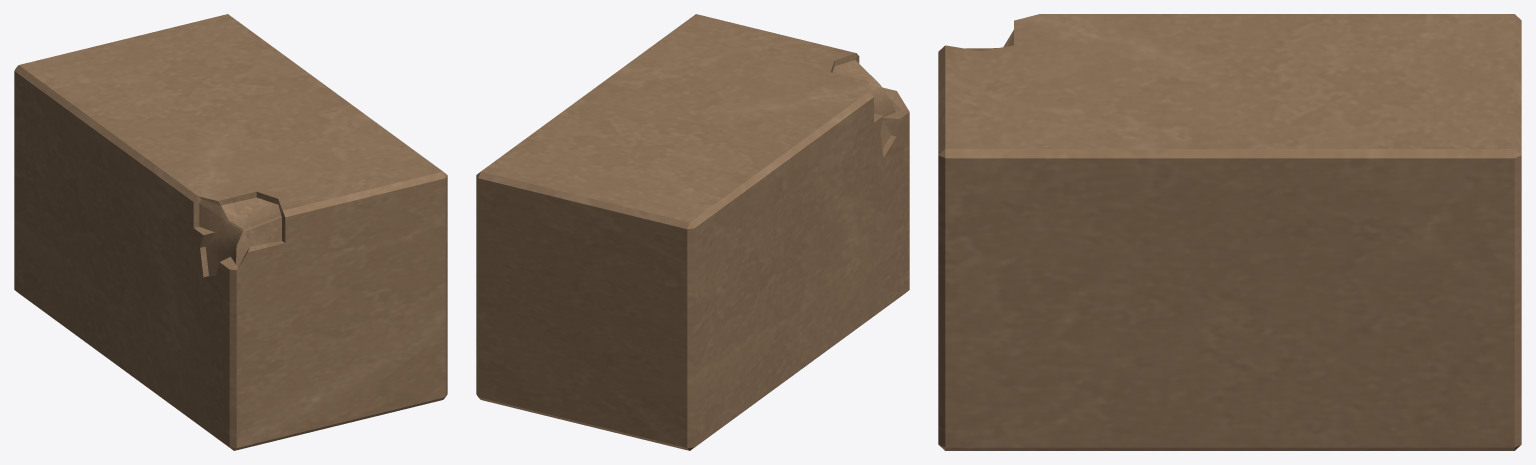
Rendered from Brick_Cracked_v2.FBX.
The picture shows the model from 3 angles, left to right: view 1: azimuth 30°, elevation 25°; view 2: azimuth 150°, elevation 25°; view 3: azimuth 270°, elevation 25°; orthographic projection. The views are drawn at different scales.
Parts seen in each view (by area): view 1: Brick_003; view 2: Brick_003; view 3: Brick_003.
Boxes of the visible parts, x1=… form: Brick_003: x1=14, y1=14, x2=447, y2=450; Brick_003: x1=476, y1=14, x2=909, y2=450; Brick_003: x1=938, y1=14, x2=1521, y2=450.
Bounding box in the file's own units: 24 × 24 × 42.
